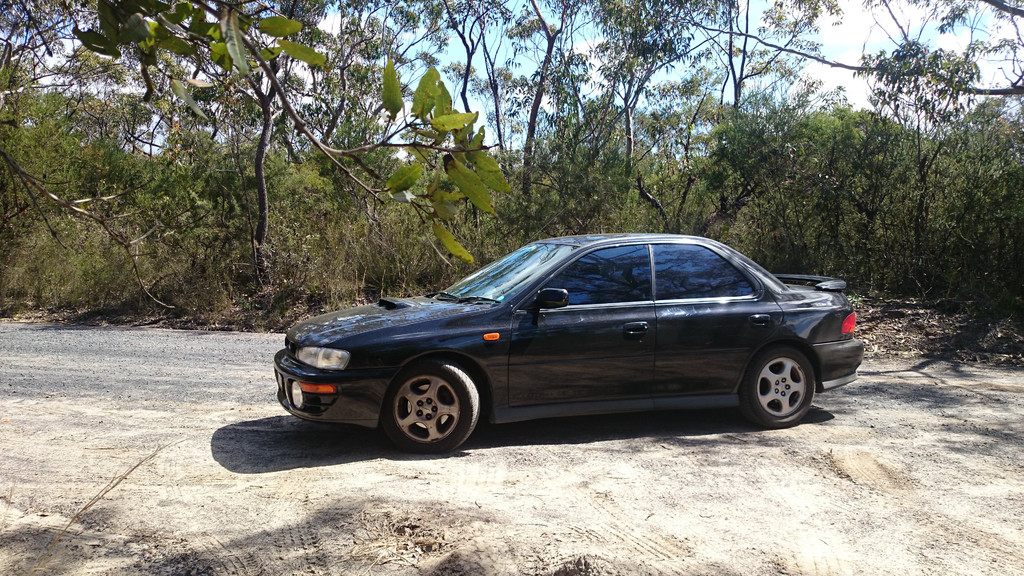mobil: (274, 231, 869, 484)
